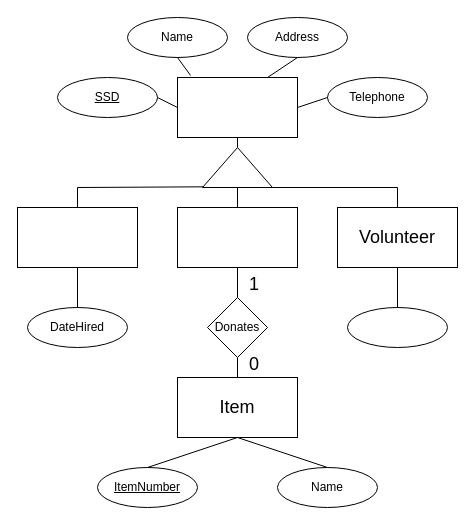
The diagram is 475 pixels wide and 525 high, and some of its shapes have lost their labels. Each missing label, with the box of its shape:
Donor: (176, 206, 298, 268)
Employee: (16, 206, 138, 268)
Over lapping: (202, 146, 272, 188)
Person: (176, 76, 298, 138)
Skill: (346, 306, 448, 348)
